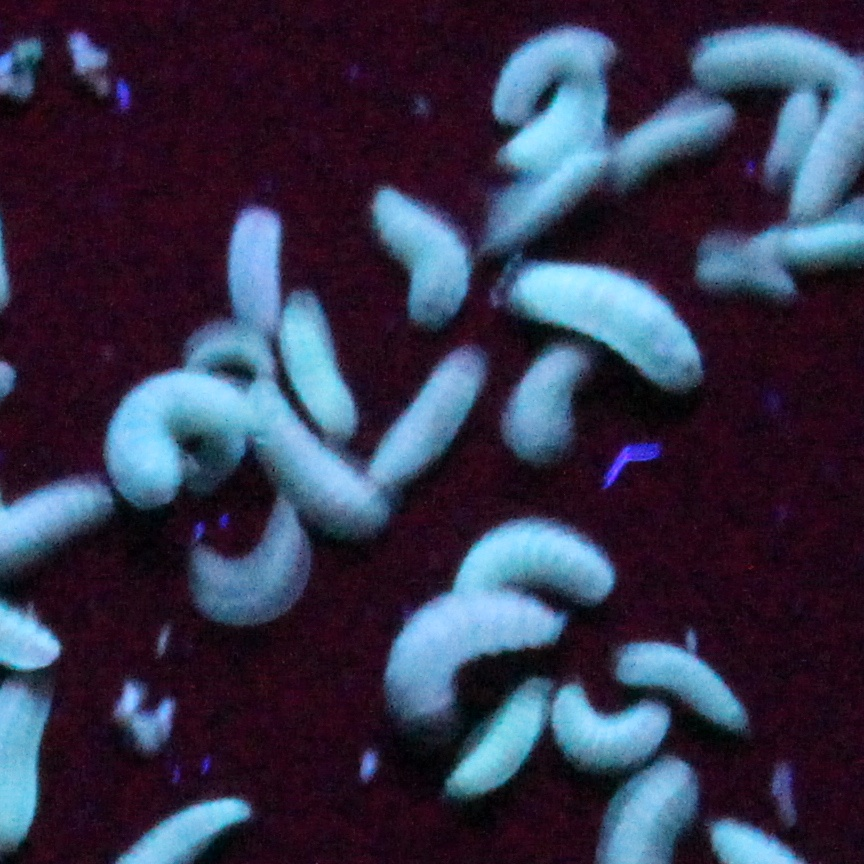larve: (499, 265, 710, 390), (245, 377, 393, 531), (391, 590, 566, 719), (120, 369, 245, 515), (435, 671, 562, 794), (370, 179, 474, 327), (376, 346, 489, 481), (458, 515, 622, 608), (487, 142, 610, 248), (197, 500, 308, 617), (614, 640, 758, 729), (610, 94, 733, 190), (287, 290, 364, 442), (493, 29, 614, 119), (551, 681, 672, 767), (508, 348, 591, 462), (687, 29, 862, 83), (226, 210, 285, 333), (760, 90, 818, 181), (193, 327, 280, 383), (701, 252, 799, 298)
